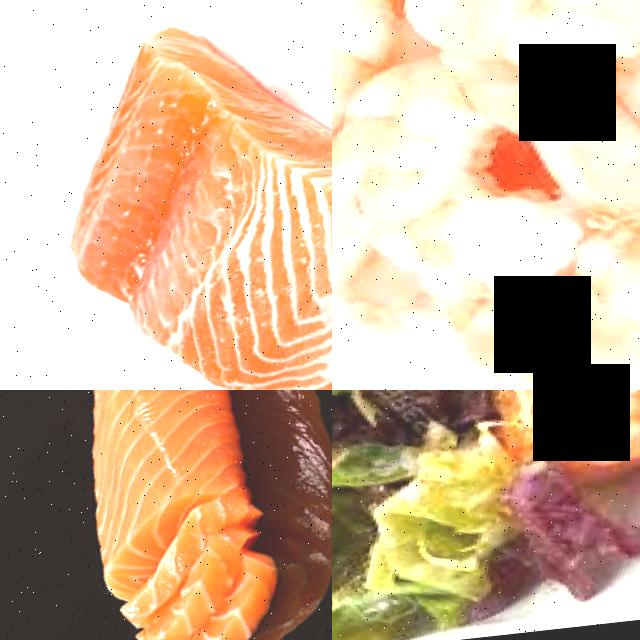salmon: (18, 0, 332, 390), (27, 390, 286, 538), (109, 520, 286, 640)
shrimp: (332, 17, 640, 356), (377, 0, 640, 137), (398, 268, 640, 390)
